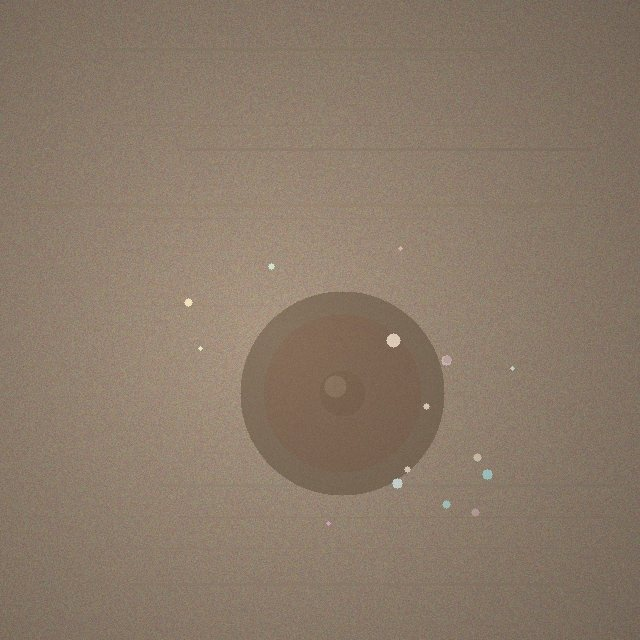overburn: (240, 291, 444, 495)
